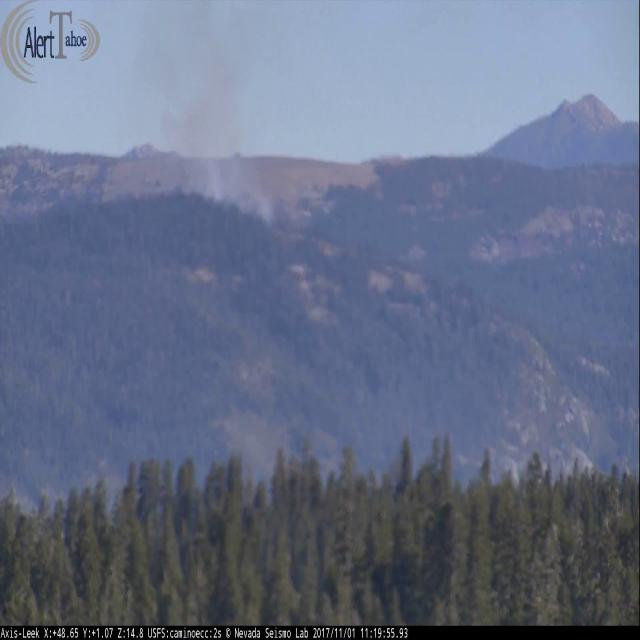smoke: (119, 1, 280, 228)
